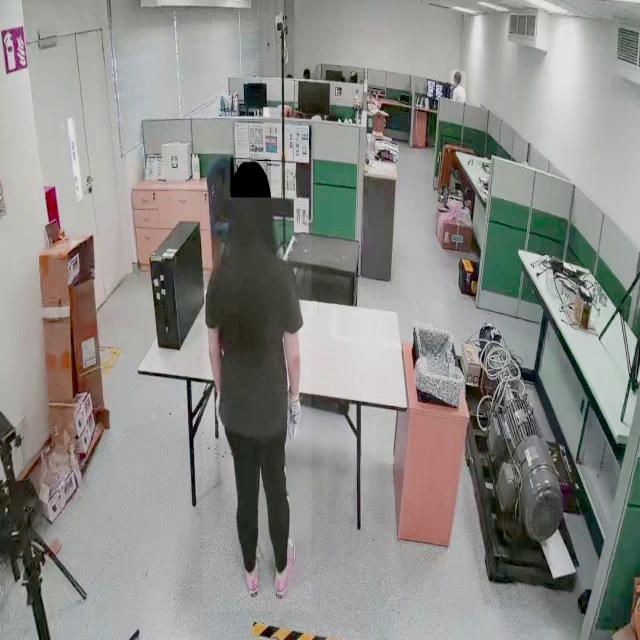hand_glove: (285, 382, 303, 442)
head_nohelmet: (230, 158, 272, 198), (453, 70, 461, 76)
person: (203, 149, 312, 612), (450, 71, 466, 102)
shoes: (271, 534, 299, 600), (240, 532, 262, 598)
